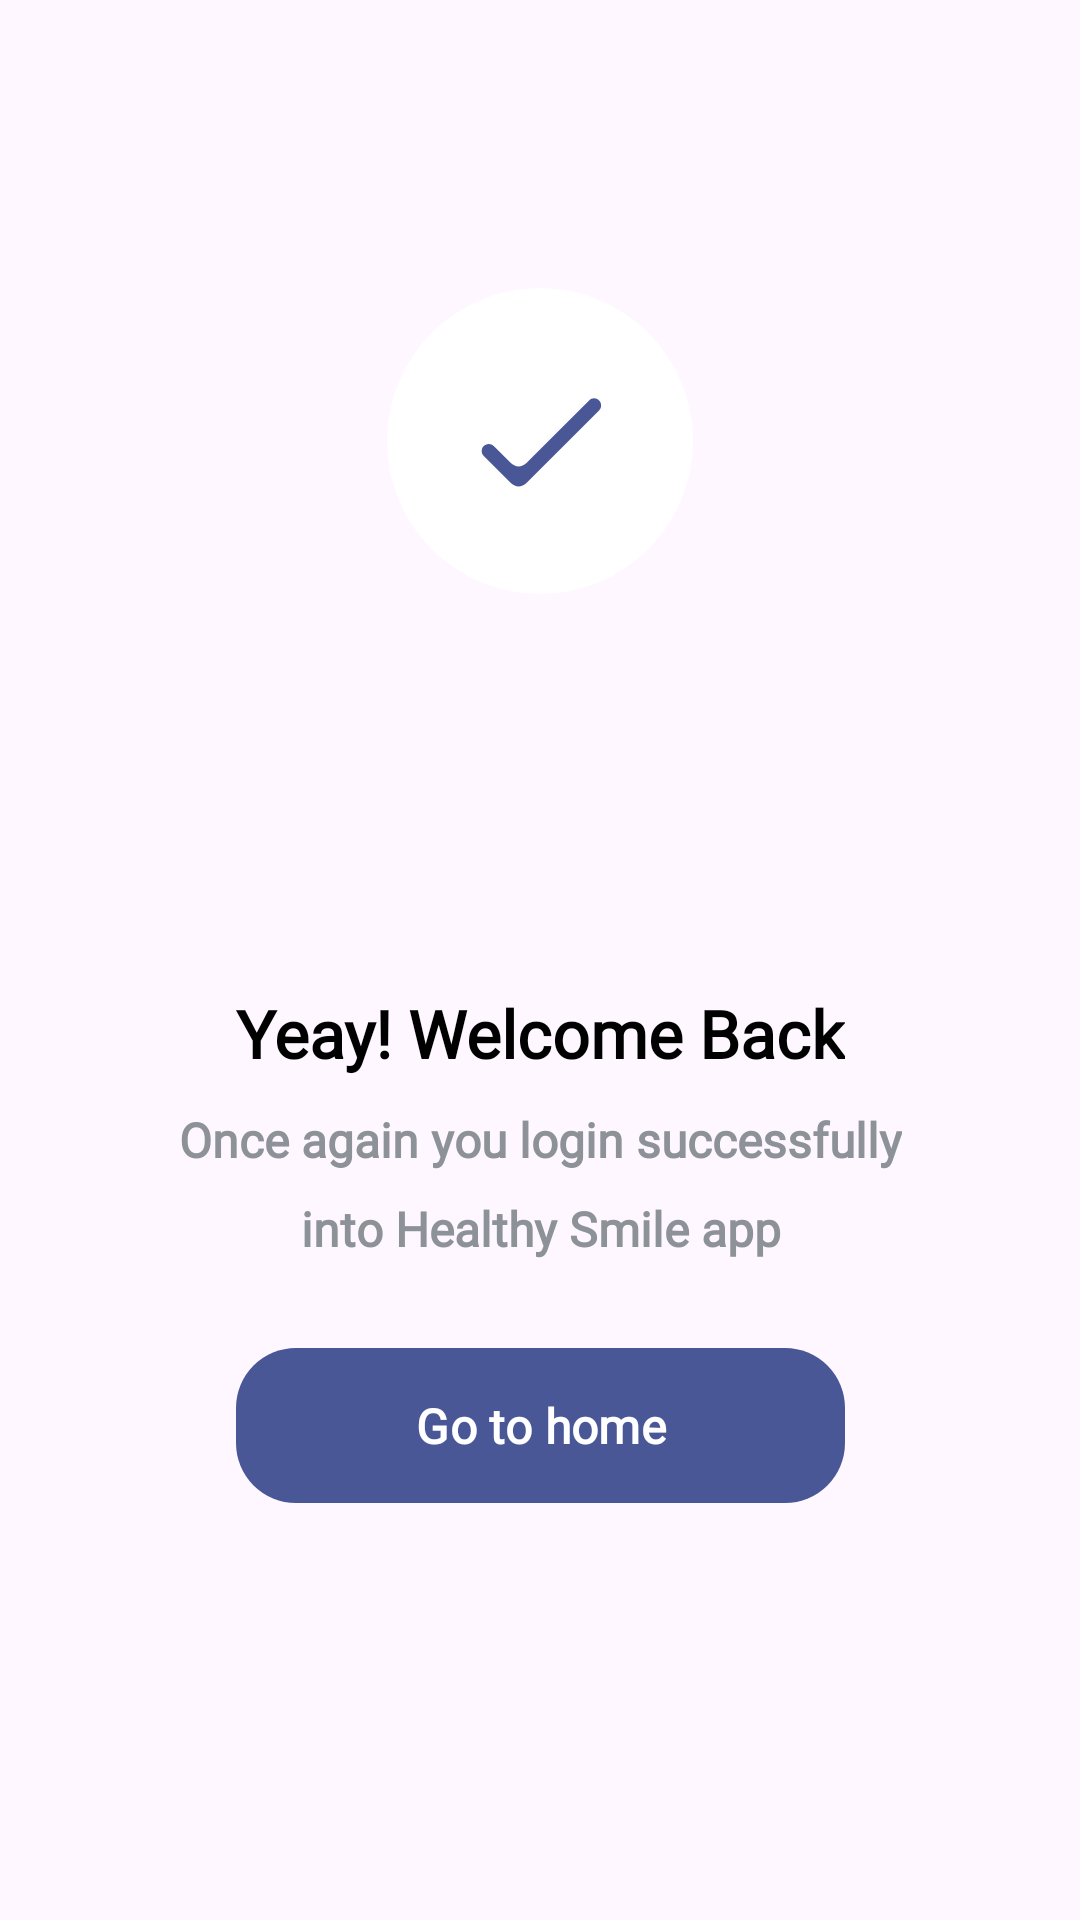

Named icons in this screenshot (1080w x 1920h) and their centers, point (x, y):
done: point (541, 442)
